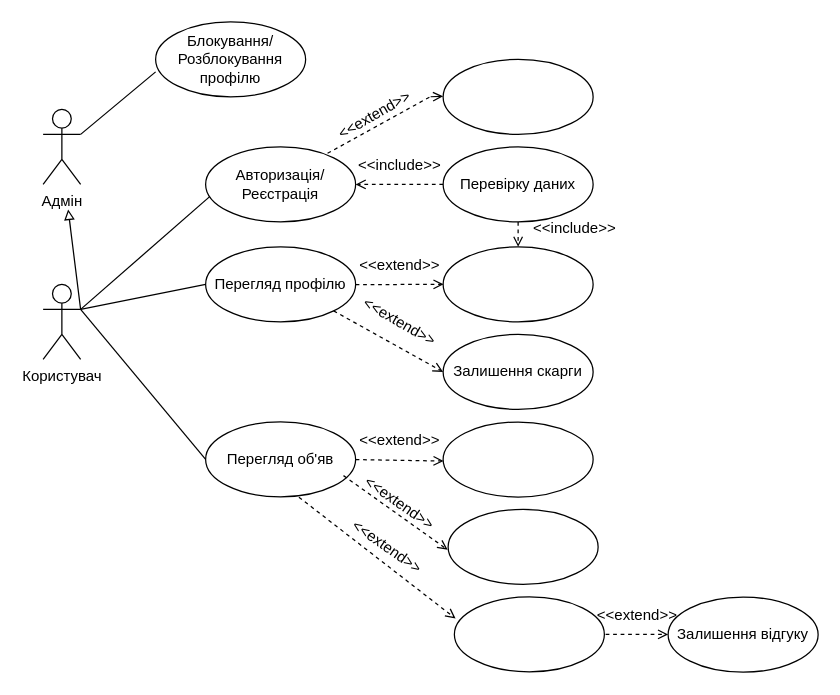
Some shapes in this 840 by 695 pixel diagram are drawn without their labels. The box of each missing label's shape, as (x1, y1, x2, y2) in pixels:
Відклик на об'яву: (453, 596, 604, 672)
Відновлення паролю: (442, 58, 593, 134)
Редагування/Видалення об'яв: (447, 508, 598, 584)
Редагування/Видалення профілю: (442, 246, 593, 322)
Створення об'яв: (442, 421, 593, 497)
